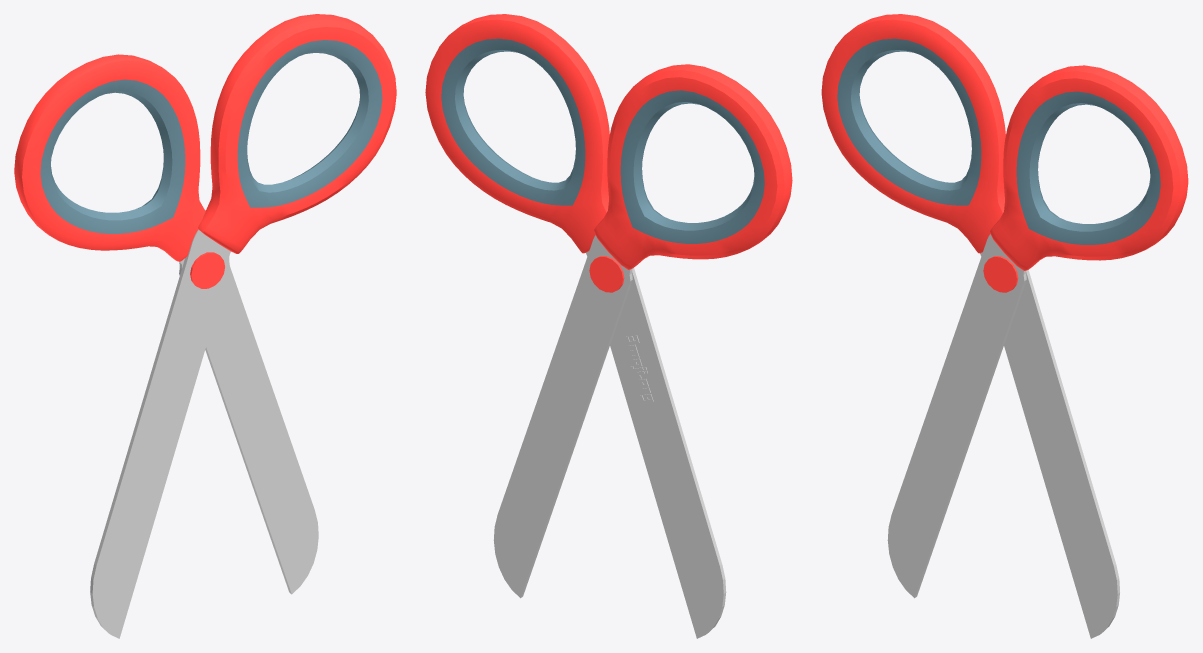
The model's file is scissors.gltf.
3 views of the same model, side by side, from view 1: azimuth 30°, elevation 25°; view 2: azimuth 150°, elevation 25°; view 3: azimuth 330°, elevation 25° (orthographic).
Visible parts, largest first — view 1: Plane.342; view 2: Plane.342; view 3: Plane.342.
Boxes of the visible parts, left/top/right/bottom form: Plane.342: left=14, top=14, right=396, bottom=638; Plane.342: left=425, top=14, right=792, bottom=638; Plane.342: left=821, top=14, right=1188, bottom=638.
Bounding box in the file's own units: 1.57 × 2.35 × 0.1551.
1 material, 1 textured.
